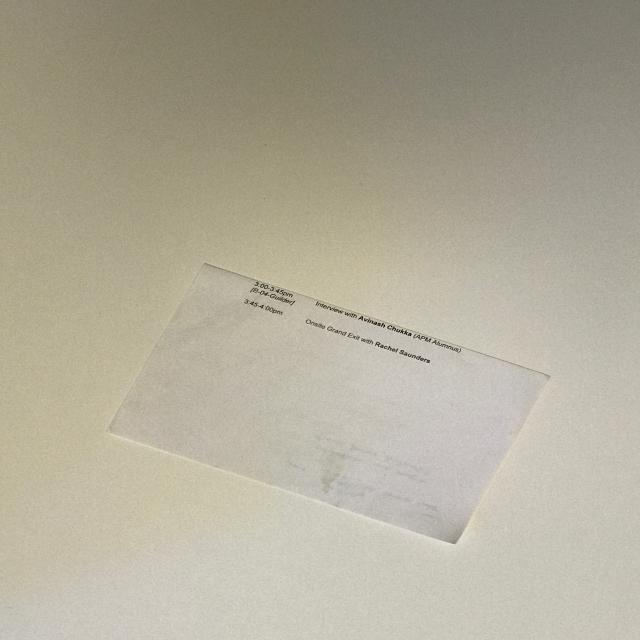paper: (101, 264, 558, 546)
